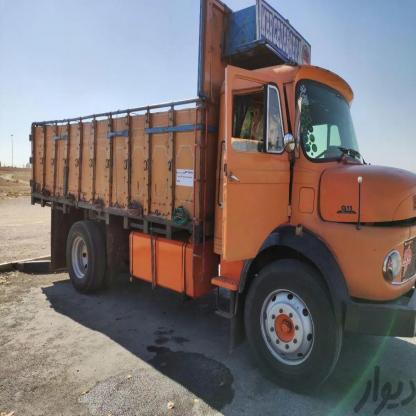Truck: (24, 0, 415, 384)
